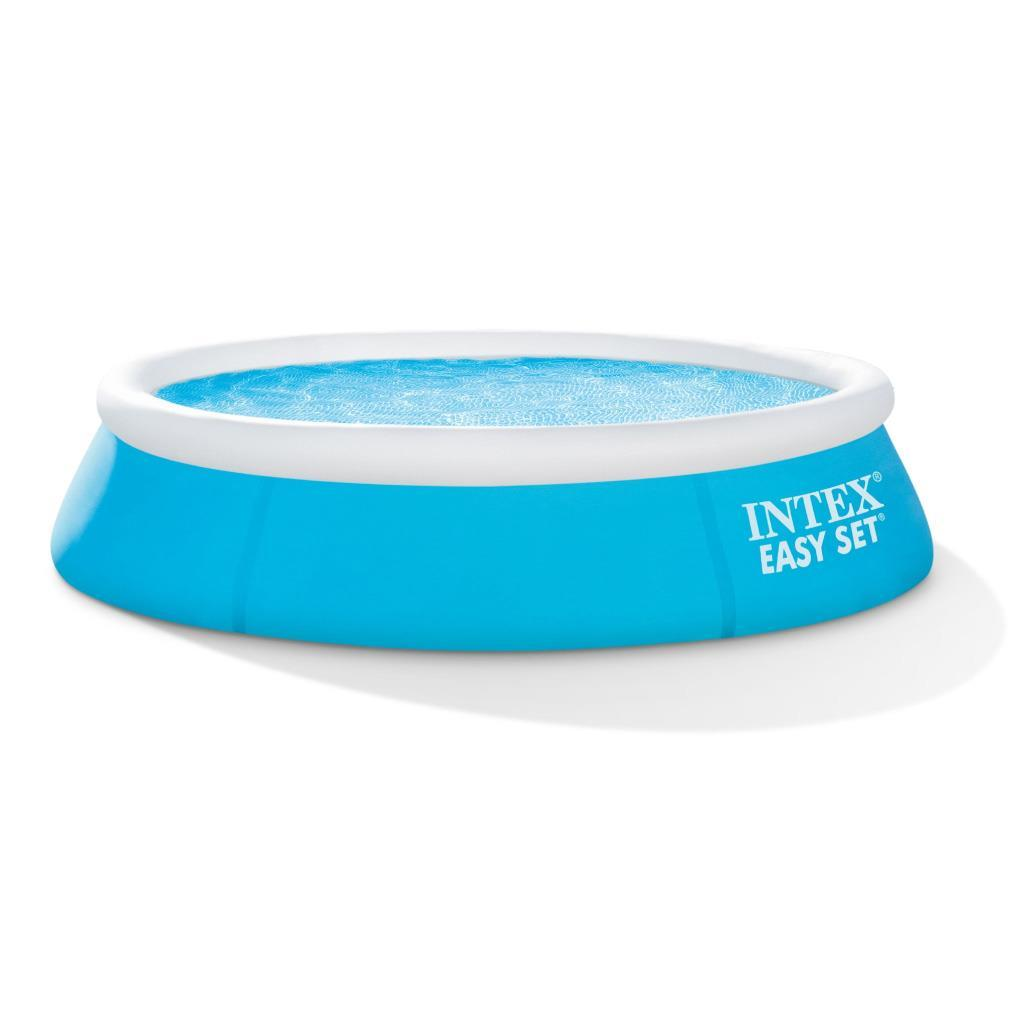havuz: (50, 326, 934, 648)
